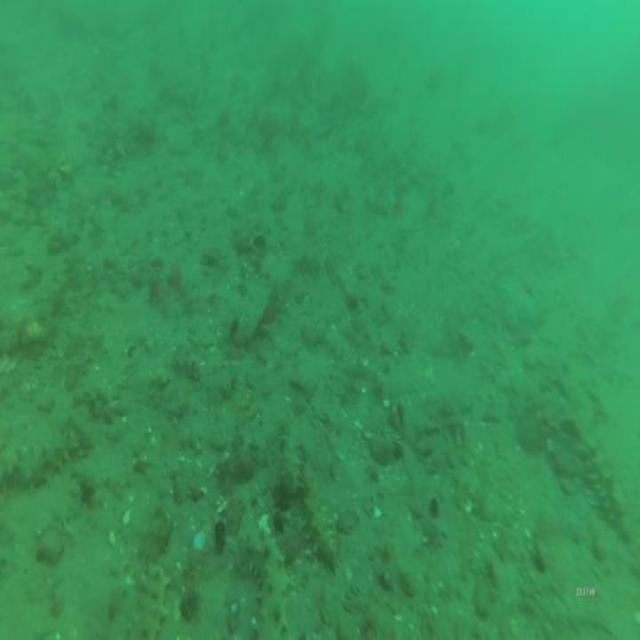holothurian: (584, 436, 632, 542), (253, 524, 295, 640), (302, 488, 348, 578), (132, 559, 176, 640), (280, 434, 303, 502)
